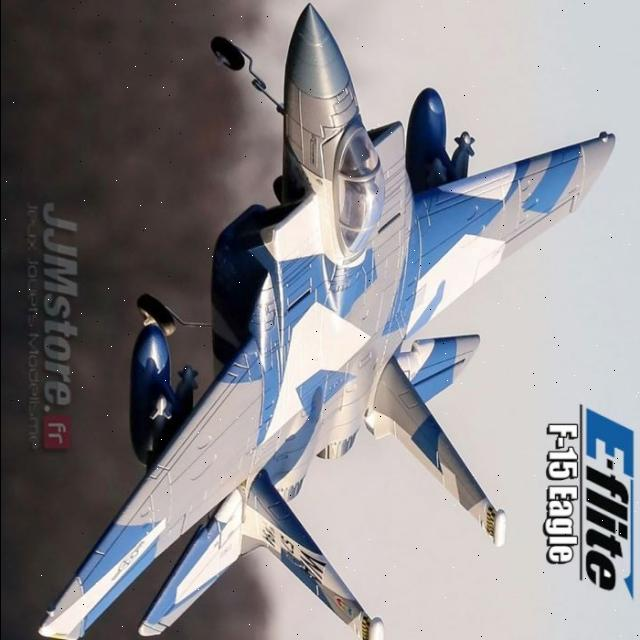F15: (32, 2, 636, 640)
